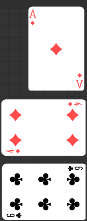4D: (4, 148, 21, 155)
AD: (74, 72, 83, 90), (28, 9, 37, 27)
